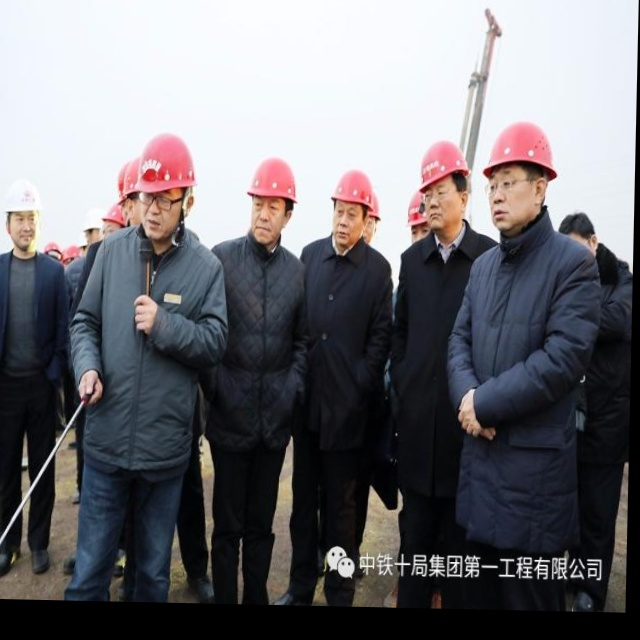Con_Casco: (245, 158, 299, 246), (328, 167, 371, 246), (1, 177, 45, 250)
